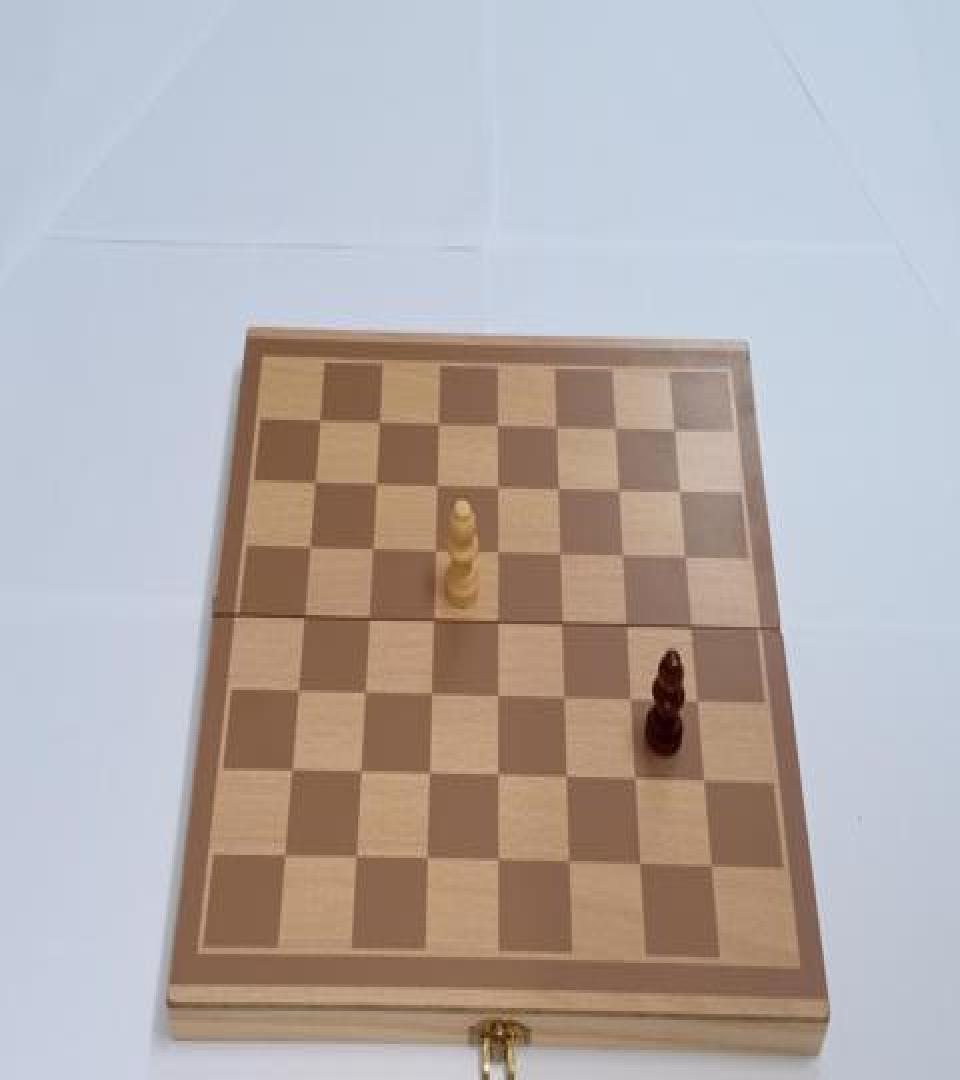xcorner: (306, 472, 324, 500), (369, 412, 387, 440), (352, 760, 370, 788), (607, 478, 625, 506), (662, 418, 680, 446), (311, 411, 329, 438), (301, 538, 319, 565), (290, 681, 308, 708), (284, 759, 302, 786), (277, 843, 295, 870), (366, 474, 384, 501), (363, 538, 381, 565), (359, 609, 377, 636), (356, 683, 374, 710), (348, 844, 366, 871), (427, 414, 445, 441), (425, 540, 443, 567), (423, 609, 441, 636), (422, 684, 440, 711), (420, 762, 438, 789), (418, 846, 436, 873), (486, 414, 504, 441), (487, 610, 505, 637), (489, 849, 507, 876), (545, 415, 563, 442), (547, 477, 565, 504), (549, 543, 567, 570), (551, 612, 569, 639), (554, 687, 572, 714), (557, 765, 575, 792), (560, 851, 578, 878), (603, 417, 621, 444), (611, 545, 629, 572), (620, 689, 638, 716), (625, 766, 643, 793), (631, 852, 649, 879), (668, 480, 686, 507), (674, 546, 692, 573), (680, 615, 698, 642), (687, 690, 705, 717), (694, 768, 712, 795), (295, 608, 313, 634), (426, 476, 444, 502), (486, 476, 504, 502), (487, 542, 505, 568), (488, 686, 506, 712), (488, 764, 506, 790), (616, 614, 634, 640), (702, 854, 720, 880)
